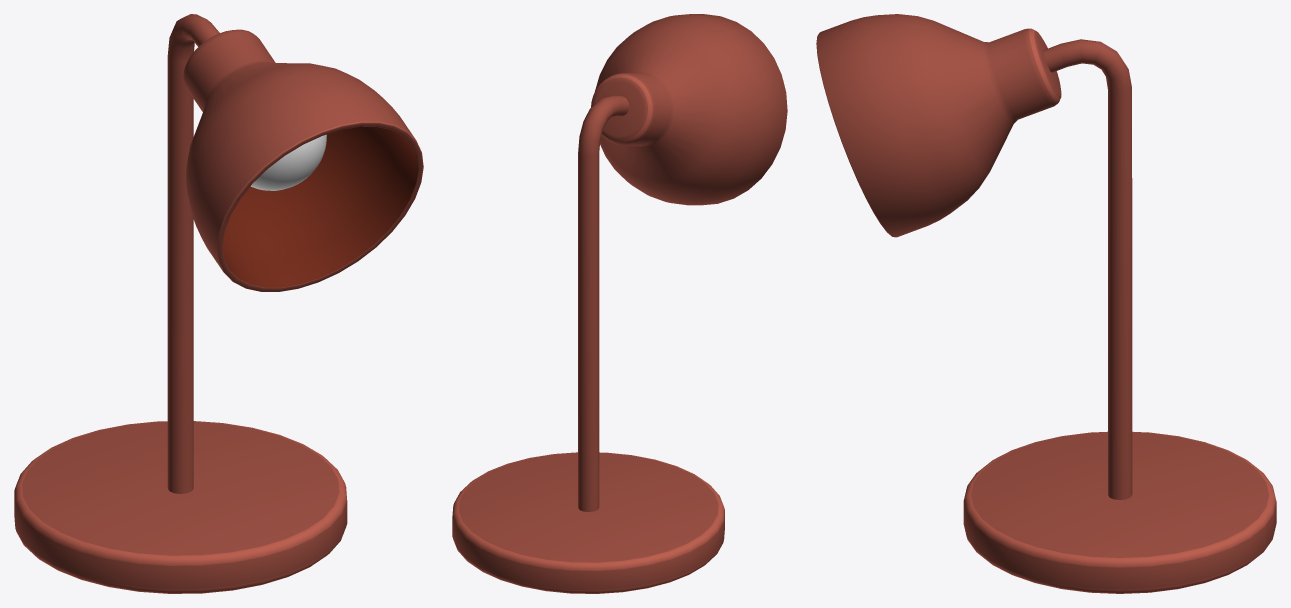
Rendered from Lamp.fbx.
3 renders of one model, left to right at view 1: azimuth 30°, elevation 25°; view 2: azimuth 150°, elevation 25°; view 3: azimuth 270°, elevation 25°, orthographic. The views are drawn at different scales.
Parts seen in each view (by area): view 1: Lamp, Lamp.003, Lamp.001, Lamp.002; view 2: Lamp, Lamp.003, Lamp.001; view 3: Lamp, Lamp.003, Lamp.001.
Part boxes in pixels (x1,y1,x2,y2): Lamp: [14, 421, 347, 593]; Lamp.003: [183, 29, 423, 291]; Lamp.001: [167, 14, 219, 493]; Lamp.002: [250, 134, 326, 190]; Lamp: [452, 452, 724, 593]; Lamp.003: [591, 14, 787, 205]; Lamp.001: [578, 95, 629, 511]; Lamp: [963, 431, 1276, 593]; Lamp.003: [816, 14, 1061, 237]; Lamp.001: [1043, 39, 1132, 499].
Size of the model in its own units: 129 by 230 by 189.
